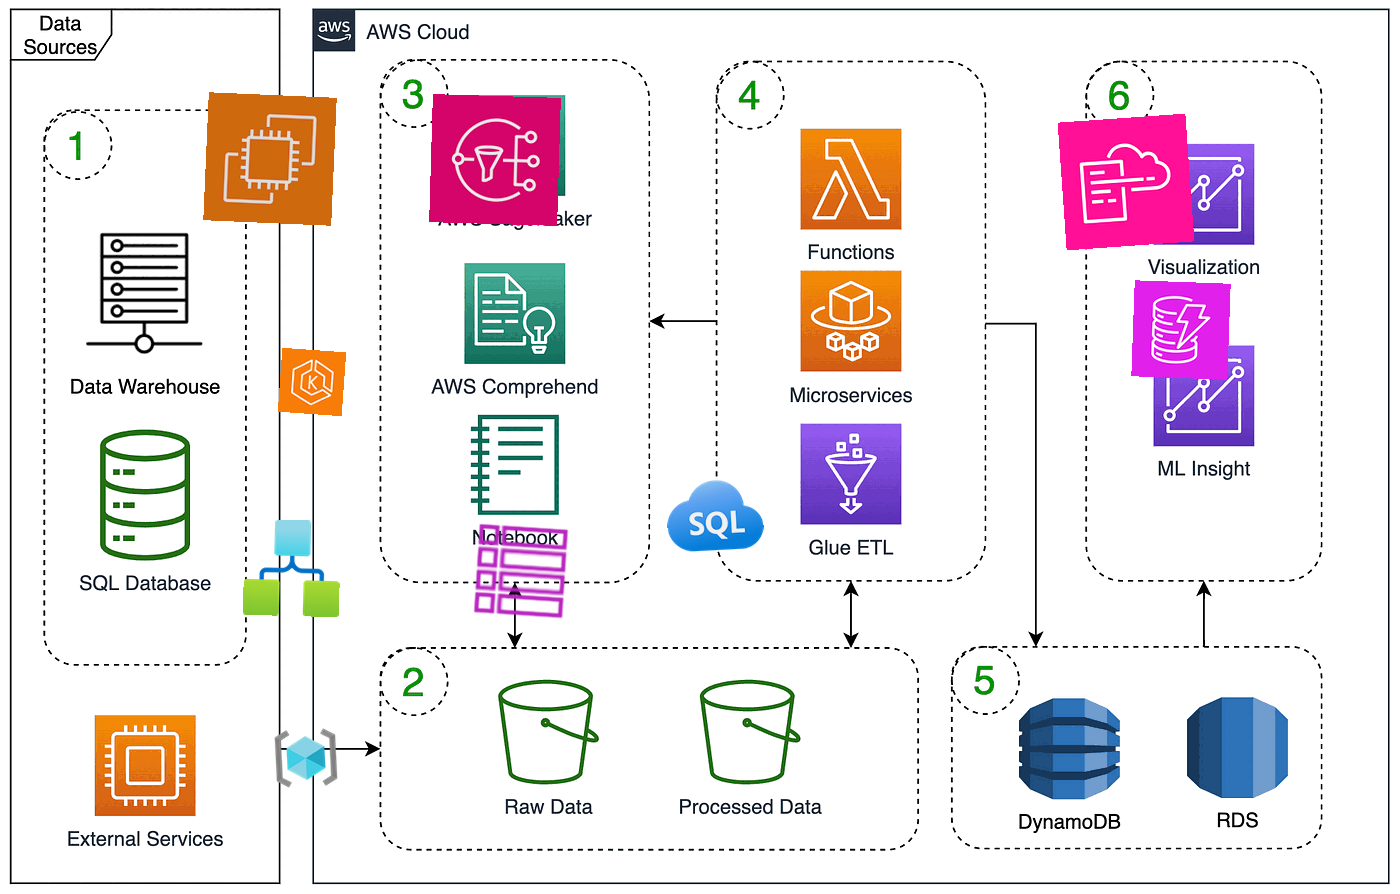aws_amazon_dynamodb: (1131, 280, 1231, 380)
aws_amazon_ec2: (203, 92, 337, 226)
aws_amazon_elastic_kubernetes_service: (277, 347, 347, 417)
aws_amazon_simple_notification_service: (429, 94, 561, 226)
aws_cloudformation: (1057, 113, 1195, 251)
aws_dynamodb_table: (469, 519, 573, 623)
azure_logic_apps: (242, 518, 342, 618)
azure_resource_groups: (272, 724, 340, 792)
azure_sql: (664, 466, 766, 568)
